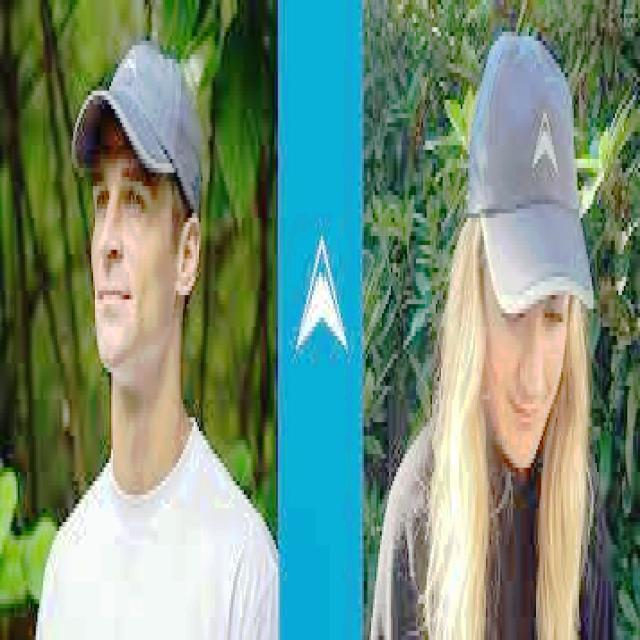TOPI: (444, 6, 610, 348), (69, 8, 215, 248)
